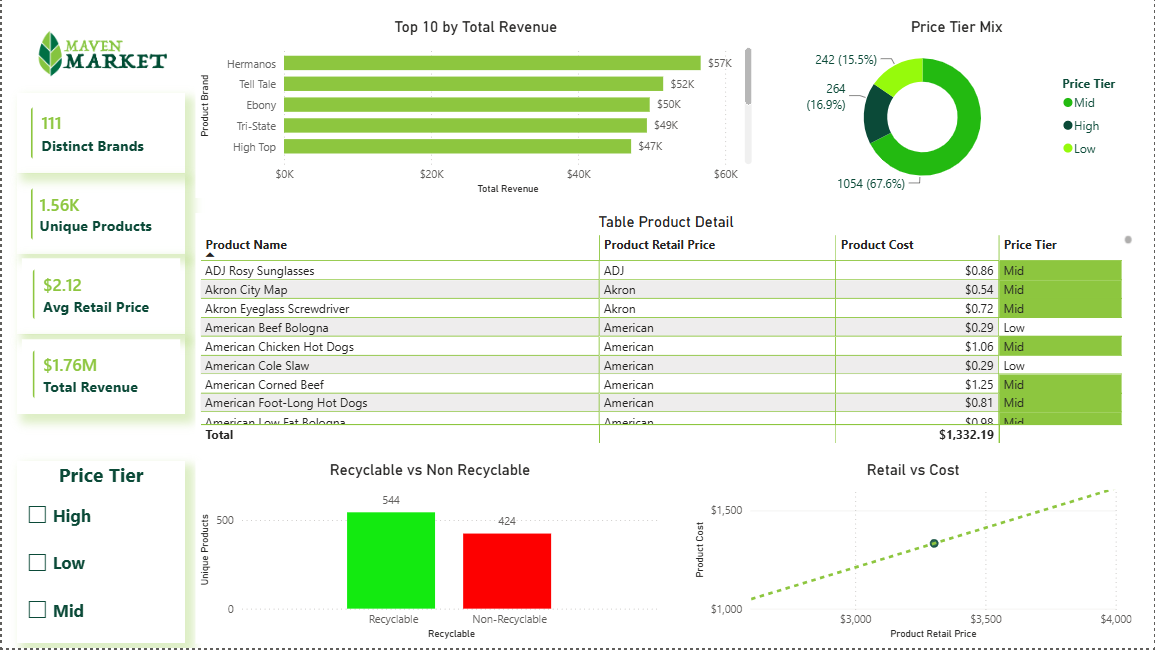

This screenshot's page, from the dashboard's own definition file:
{"tool":"powerbi","page":{"name":"Product Detail","canvas":[1280,720],"ordinal":1},"visuals":[{"type":"image","box":[36.1,19.7,149.2,78.7],"z":1000},{"type":"cardVisual","fields":{"Data":["Products.Distinct Brands"]},"box":[16.4,103.3,186.9,88.5],"z":2000},{"type":"cardVisual","fields":{"Data":["Products.Unique Products"]},"box":[16.4,193.4,186.9,88.5],"z":3000},{"type":"cardVisual","fields":{"Data":["Products.Avg Retail Price"]},"box":[16.4,282,186.9,90.2],"z":4000},{"type":"cardVisual","fields":{"Data":["Transaction Data.Total Revenue"]},"box":[16.4,372.1,186.9,88.5],"z":5000},{"type":"slicer","title":"Price Tier","fields":{"Values":["Customers.member_card"]},"box":[16.4,511.5,186.9,203.3],"z":6000},{"type":"columnChart","title":"Recyclable vs Non Recyclable","fields":{"Category":["Products.recyclable"],"Y":["Products.Unique Products"]},"box":[214.8,511.5,521.3,203.3],"z":8000},{"type":"barChart","title":"Top 10 by Total Revenue","fields":{"Category":["Products.product_brand"],"Y":["Transaction Data.Total Revenue"]},"box":[214.8,19.7,623,200],"z":9000},{"type":"donutChart","title":"Price Tier Mix","fields":{"Category":["Products.Price_Tier"],"Y":["Products.Unique Products"]},"box":[862.3,19.7,398.4,200],"z":10000},{"type":"tableEx","title":"Table Product Detail","fields":{"Values":["Products.product_name","Products.product_brand","Sum(Products.product_cost)","Products.Price_Tier"]},"box":[214.8,236.1,1045.9,260.7],"z":12000},{"type":"scatterChart","title":"Retail vs Cost","fields":{"X":["Sum(Products.product_retail_price)"],"Y":["Sum(Products.product_cost)"]},"box":[765.6,511.5,495.1,203.3],"z":13000}]}

Visuals, with their boxes in screenshot pixels (x1, y1, x2, y2), scaled from the page's 1280x720 canvas onto the 1155x650 screenshot:
image: (x1=33, y1=18, x2=167, y2=89)
cardVisual - Products.Distinct Brands: (x1=15, y1=93, x2=183, y2=173)
cardVisual - Products.Unique Products: (x1=15, y1=175, x2=183, y2=254)
cardVisual - Products.Avg Retail Price: (x1=15, y1=255, x2=183, y2=336)
cardVisual - Transaction Data.Total Revenue: (x1=15, y1=336, x2=183, y2=416)
"Price Tier" slicer: (x1=15, y1=462, x2=183, y2=645)
"Recyclable vs Non Recyclable" columnChart: (x1=194, y1=462, x2=664, y2=645)
"Top 10 by Total Revenue" barChart: (x1=194, y1=18, x2=756, y2=198)
"Price Tier Mix" donutChart: (x1=778, y1=18, x2=1138, y2=198)
"Table Product Detail" tableEx: (x1=194, y1=213, x2=1138, y2=448)
"Retail vs Cost" scatterChart: (x1=691, y1=462, x2=1138, y2=645)
